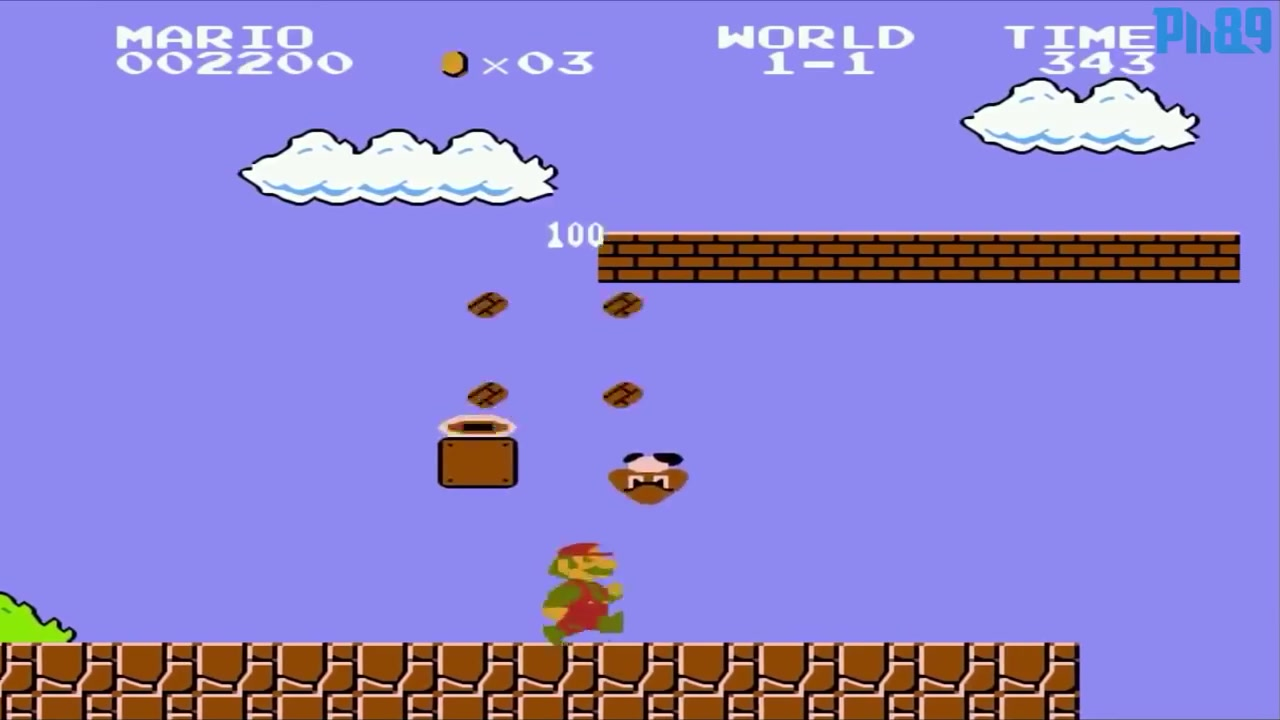mario: (542, 532, 633, 643)
